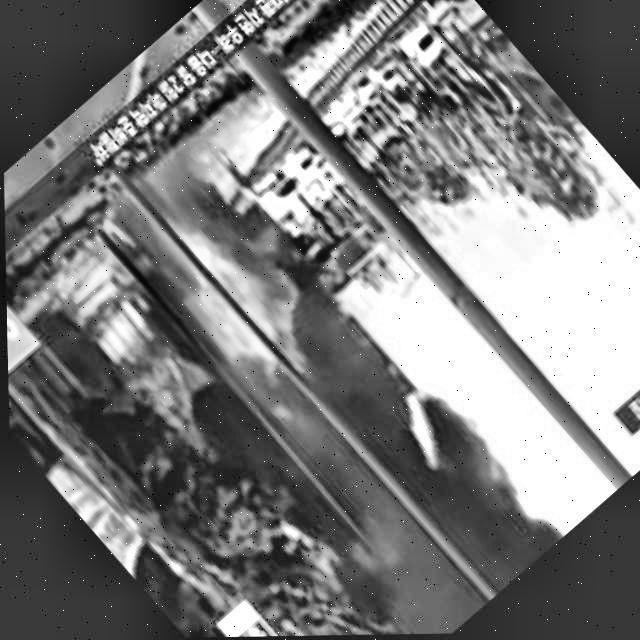Fire: (78, 137, 306, 375)
Smoke: (201, 311, 573, 638)
